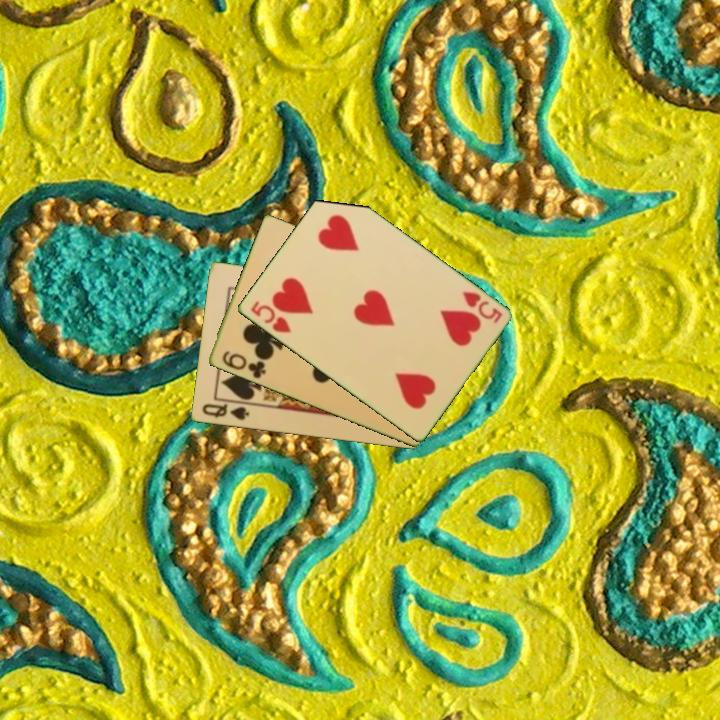5h: (247, 297, 294, 336), (458, 288, 505, 326)
6c: (218, 348, 269, 382)
Qs: (198, 400, 252, 423)
